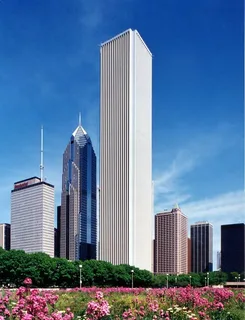high_rise_building: (94, 23, 158, 275)
